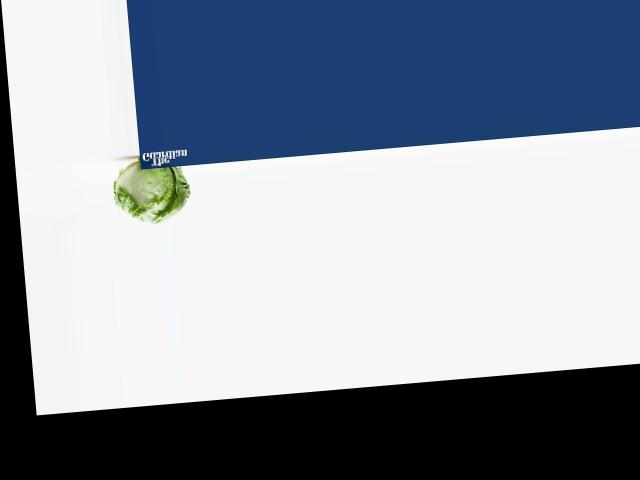lettuce: (112, 156, 191, 230)
